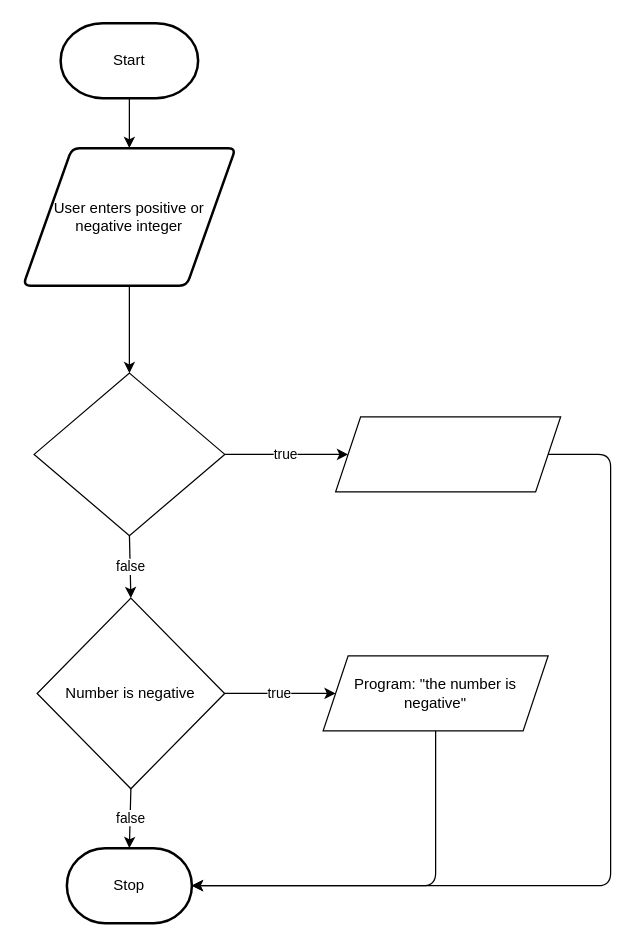
The diagram is 643 pixels wide and 945 high, and some of its shapes have lost their labels. The shapes that lost their labels are listed below. From the top down, each one's centre as x and y in pixels, then its label:
pixel 129 454: Number is positive
pixel 447 454: Program: "the number is positive"
